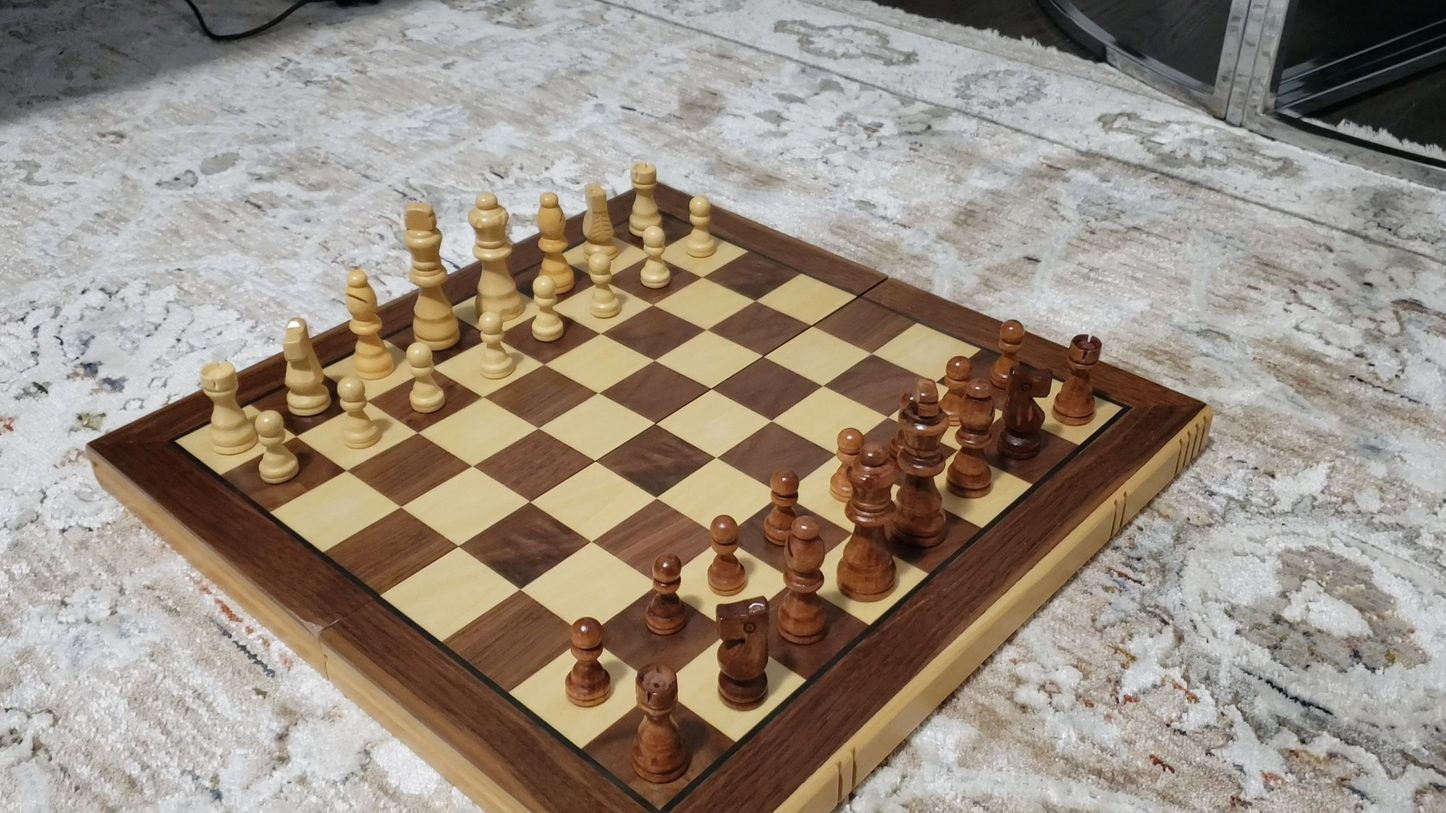black-bishop: (778, 515, 830, 645), (946, 377, 1001, 498)
black-king: (885, 377, 957, 551)
black-knight: (712, 596, 774, 709), (994, 361, 1047, 460)
black-pawn: (560, 615, 613, 711), (703, 510, 750, 600), (642, 552, 688, 638), (761, 465, 804, 547), (986, 314, 1030, 394), (934, 352, 977, 429), (830, 424, 867, 501)
black-queen: (831, 443, 904, 605)
black-rook: (630, 662, 688, 785), (1052, 331, 1105, 425)
white-bishop: (340, 264, 397, 381), (533, 189, 576, 296)
white-king: (399, 197, 458, 351)
white-knight: (280, 315, 329, 416), (578, 177, 617, 266)
white-pawn: (249, 408, 306, 489), (330, 373, 386, 454), (579, 240, 628, 325), (399, 339, 451, 419), (470, 309, 520, 385), (631, 217, 677, 294), (525, 270, 569, 346), (678, 190, 722, 264)
white-queen: (467, 187, 522, 332)
white-rook: (195, 358, 256, 455), (625, 156, 665, 246)
